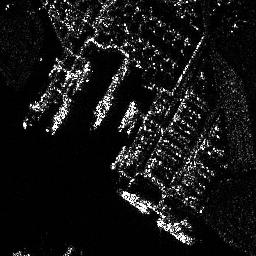ship: (156, 218, 193, 245), (119, 191, 150, 214), (117, 99, 136, 131), (51, 108, 68, 137), (93, 102, 111, 128)
